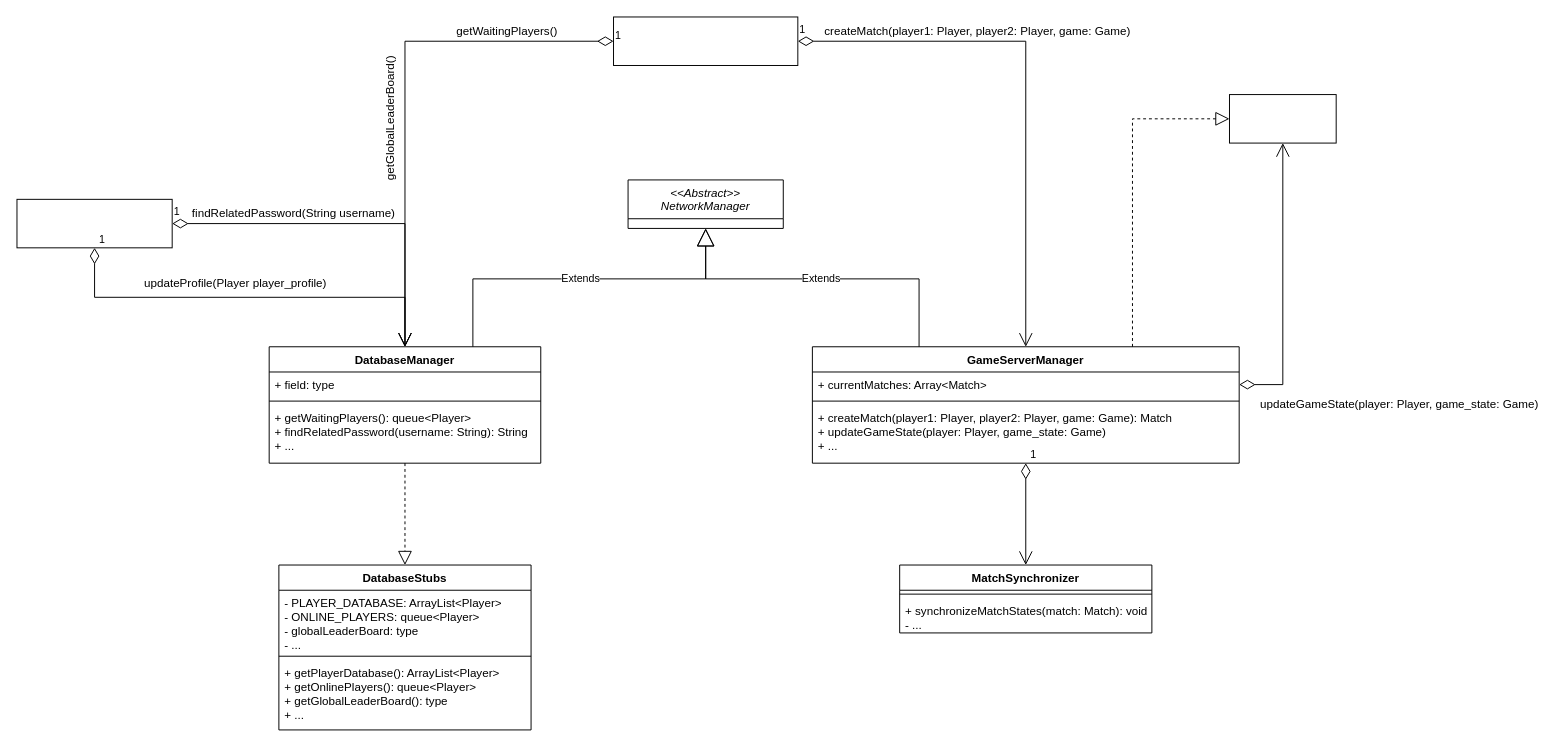
The diagram is 1567 pixels wide and 750 high, and some of its shapes have lost their labels. Here are the shapes that lost their labels. From the top down, the centre of each, then its label:
At pixel 705 40: "«FunctionCalls» MatchmakingAndLeaderboard".
At pixel 1282 118: "Match".
At pixel 94 223: "«FunctionCalls» AuthenticationAndProfile".
